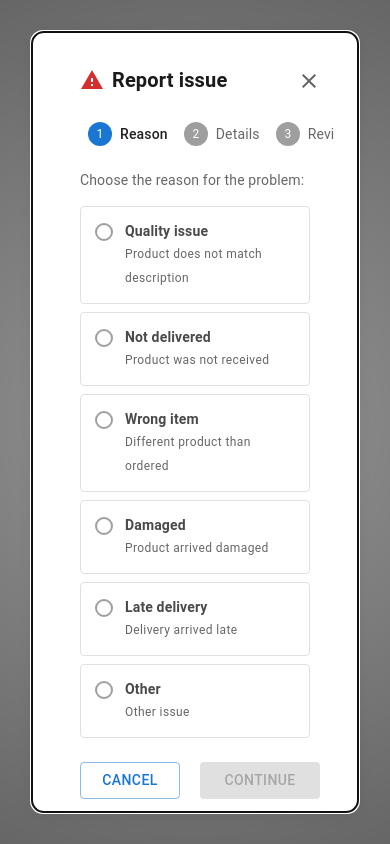
Scenario: DisputeModal › keeps the details step Continue button disabled until description and resolution are filled
The width and height of the screenshot is (390, 844).
Step 1. Click the text "Quality issue" → (167, 231), box [125,223,208,239]
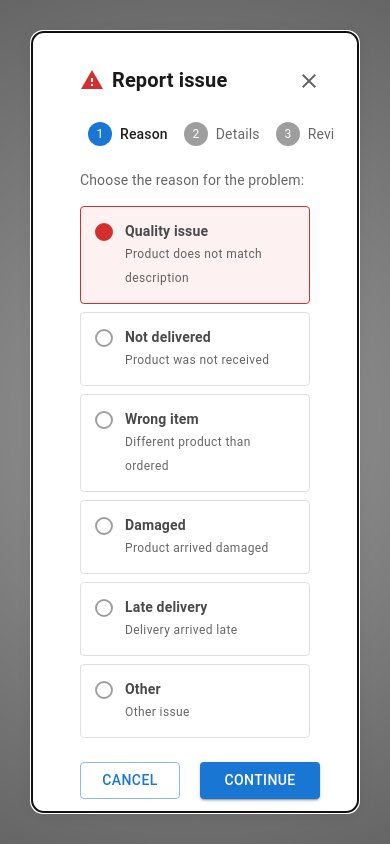
Step 2. Click the button "Continue" → (260, 780), box [200,762,320,799]
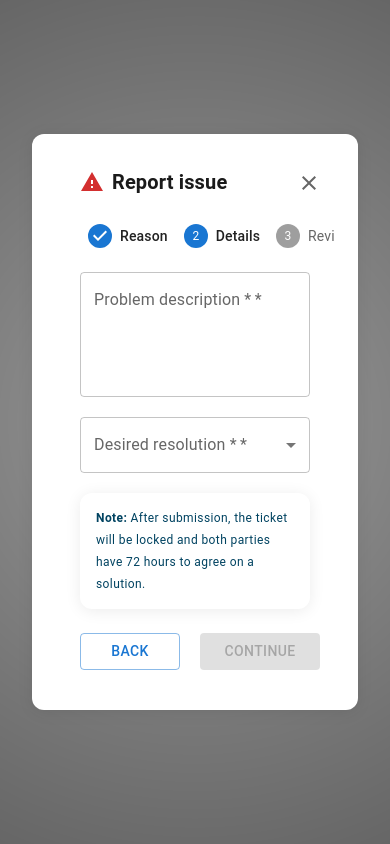
Check: the button "Continue" is disabled, box [200,633,320,670]
Step 3. Type "Item arrived broken" into the text box labelled "Problem description * *" → (195, 335), box [94,289,296,381]
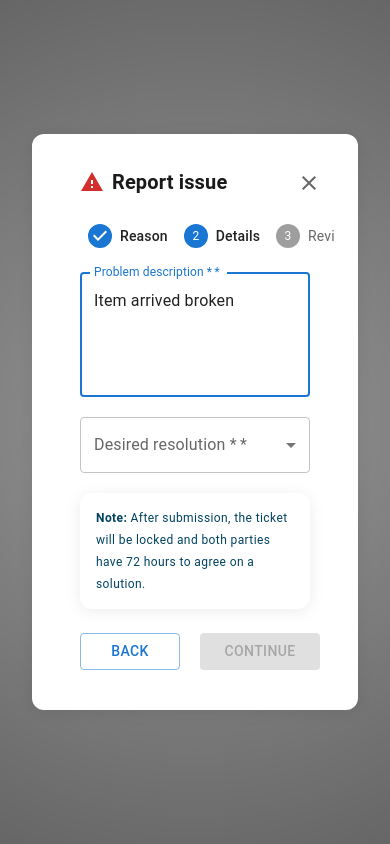
Check: the button "Continue" is disabled, box [200,633,320,670]
Note: MUI select — open then pick an option by role.
Step 4. Click the dropdown named "Desired resolution" → (195, 445), box [80,417,310,473]
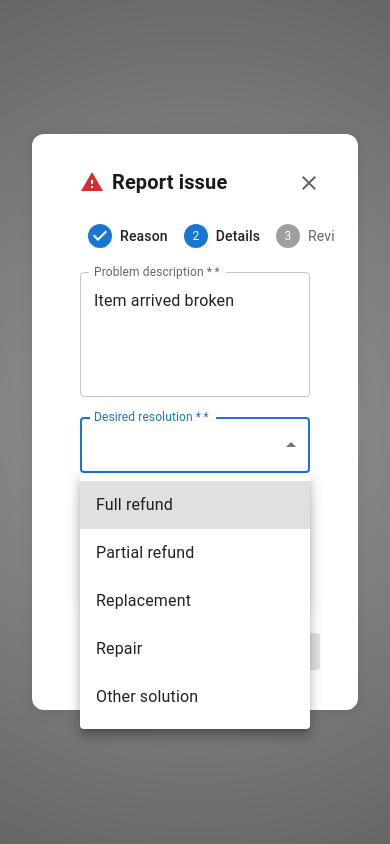
Step 5. Click the option "Full refund" → (195, 505), box [80,481,310,529]
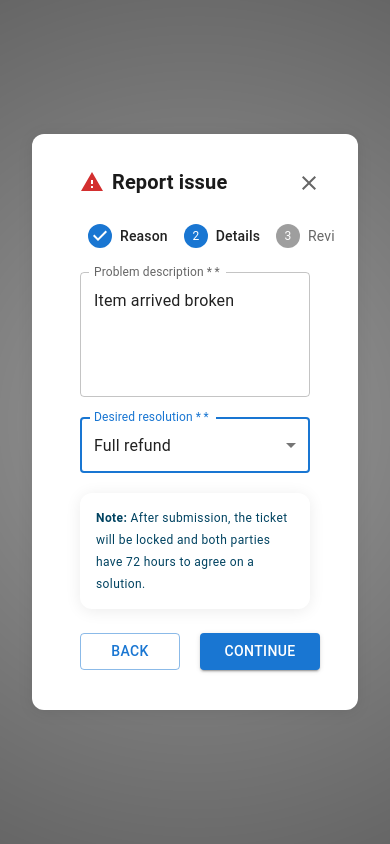
Check: the button "Continue" is enabled, box [200,633,320,670]
